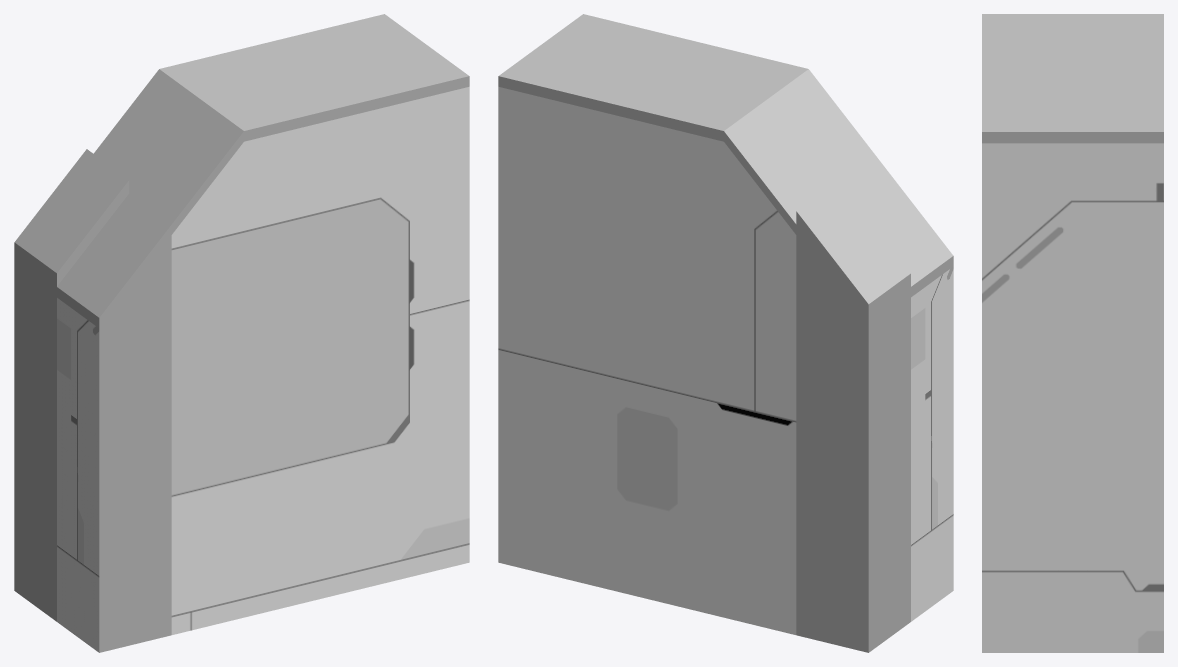
The model's file is SM_BuildingExtra_Roof_2.fbx.
3 views of the same model, side by side, from view 1: azimuth 30°, elevation 25°; view 2: azimuth 150°, elevation 25°; view 3: azimuth 270°, elevation 25° (orthographic). The views are drawn at different scales.
Parts seen in each view (by area): view 1: SM_BuildingExtra_Roof_2; view 2: SM_BuildingExtra_Roof_2; view 3: SM_BuildingExtra_Roof_2.
Boxes of the visible parts, x1,y1,x2,y2 form: SM_BuildingExtra_Roof_2: (14,14,469,652); SM_BuildingExtra_Roof_2: (498,14,953,652); SM_BuildingExtra_Roof_2: (982,14,1163,652).
Size of the model in its own units: 321 by 403 by 127.
